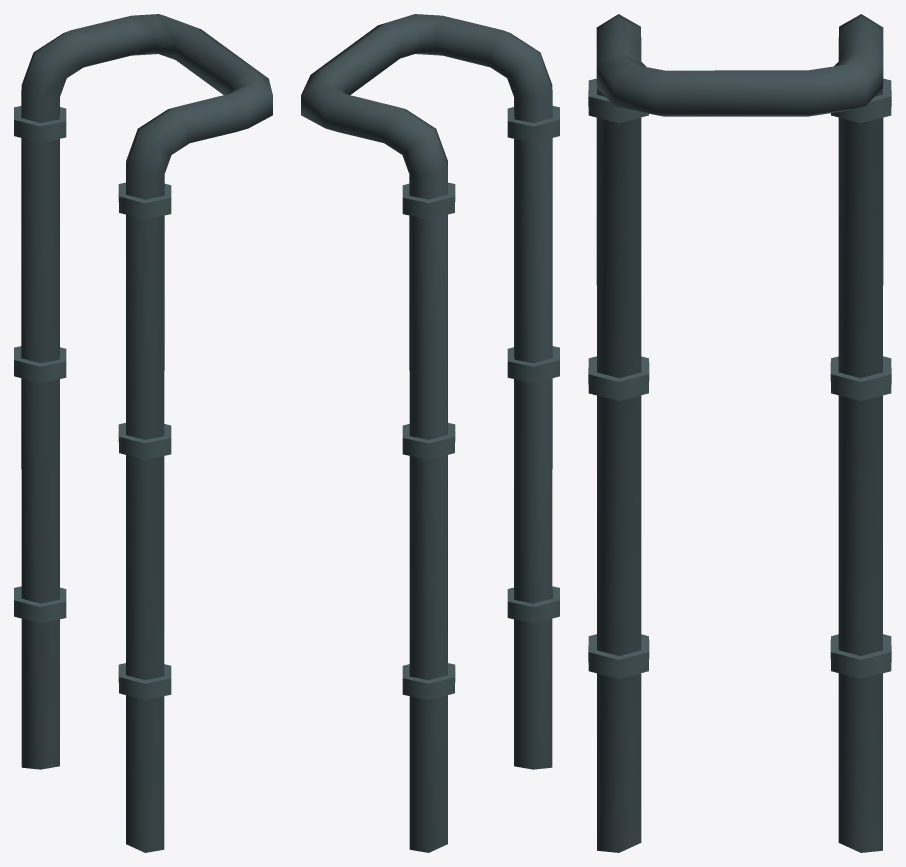
File: SM_Pipe_01.fbx
3 renders of one model, left to right at view 1: azimuth 30°, elevation 25°; view 2: azimuth 150°, elevation 25°; view 3: azimuth 270°, elevation 25°, orthographic. The views are drawn at different scales.
Parts seen in each view (by area): view 1: SM_Pipe_01; view 2: SM_Pipe_01; view 3: SM_Pipe_01.
Boxes of the visible parts, x1,y1,x2,y2 form: SM_Pipe_01: [14, 14, 272, 852]; SM_Pipe_01: [301, 14, 559, 852]; SM_Pipe_01: [588, 14, 891, 852].
Size of the model in its own units: 114 by 478 by 155.
Materials: 1 (1 with a texture image).
